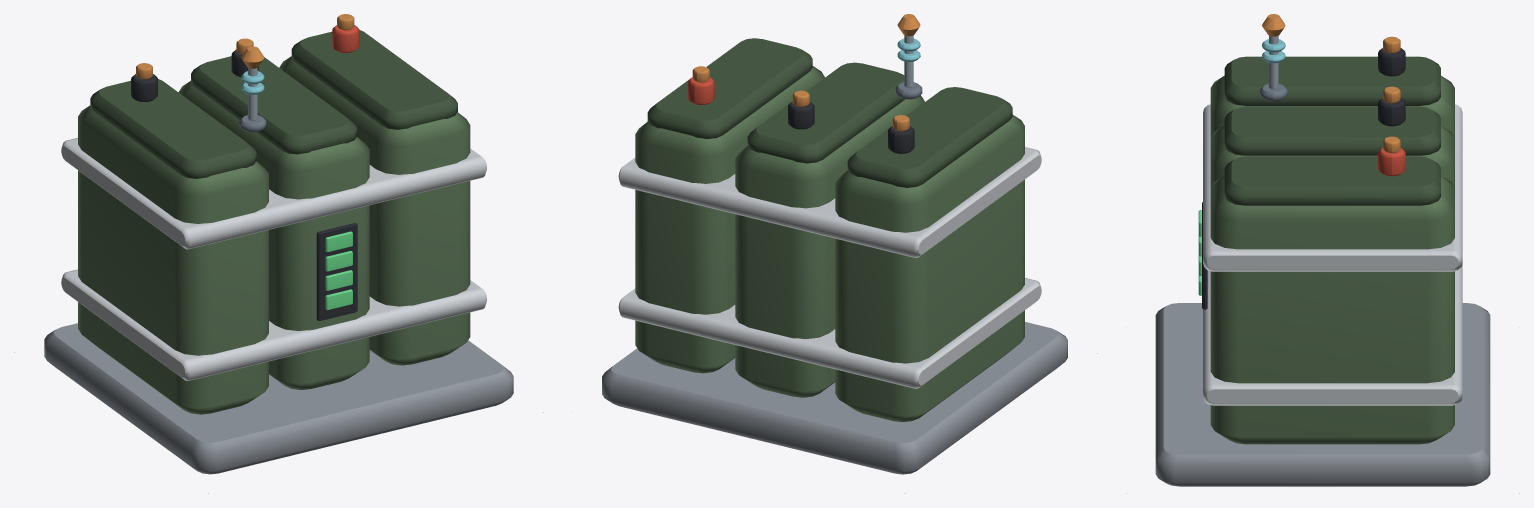
Rendered from accumulateur_base.glb.
The picture shows the model from 3 angles, left to right: view 1: azimuth 30°, elevation 25°; view 2: azimuth 150°, elevation 25°; view 3: azimuth 270°, elevation 25°; orthographic projection. The views are drawn at different scales.
Visible parts, largest first — view 1: pieces_accu.002, pieces_coffret_sombre.002, pieces_accu_sombre.002, pieces_coffret.002, pieces_panneau_noir.002, voyant_charge_voyant_vert.002, pieces_isolateur_cuivre.002, pieces_levier_rouge.002; view 2: pieces_accu.002, pieces_coffret_sombre.002, pieces_accu_sombre.002, pieces_coffret.002, pieces_panneau_noir.002, pieces_isolateur_cuivre.002, pieces_levier_rouge.002; view 3: pieces_accu.002, pieces_accu_sombre.002, pieces_coffret_sombre.002, pieces_coffret.002, pieces_panneau_noir.002, pieces_isolateur_cuivre.002, pieces_levier_rouge.002, pieces_isolateur_verre.002.
Boxes of the visible parts, x1,y1,x2,y2 form: pieces_accu.002: [78, 56, 470, 414]; pieces_coffret_sombre.002: [44, 323, 513, 474]; pieces_accu_sombre.002: [90, 30, 457, 178]; pieces_coffret.002: [61, 138, 486, 381]; pieces_panneau_noir.002: [131, 49, 357, 320]; voyant_charge_voyant_vert.002: [325, 231, 352, 310]; pieces_isolateur_cuivre.002: [136, 14, 354, 79]; pieces_levier_rouge.002: [332, 25, 359, 52]; pieces_accu.002: [635, 66, 1024, 421]; pieces_coffret_sombre.002: [602, 322, 1067, 474]; pieces_accu_sombre.002: [647, 38, 1012, 187]; pieces_coffret.002: [618, 147, 1041, 388]; pieces_panneau_noir.002: [788, 101, 914, 153]; pieces_isolateur_cuivre.002: [692, 14, 920, 131]; pieces_levier_rouge.002: [688, 77, 714, 104]; pieces_accu.002: [1210, 75, 1454, 444]; pieces_accu_sombre.002: [1224, 56, 1440, 205]; pieces_coffret_sombre.002: [1155, 303, 1490, 486]; pieces_coffret.002: [1203, 104, 1462, 405]; pieces_panneau_noir.002: [1202, 48, 1405, 309]; pieces_isolateur_cuivre.002: [1262, 14, 1400, 153]; pieces_levier_rouge.002: [1378, 148, 1405, 176]; pieces_isolateur_verre.002: [1262, 39, 1285, 63].
Size of the model in its own units: 1 by 1.03 by 1.
